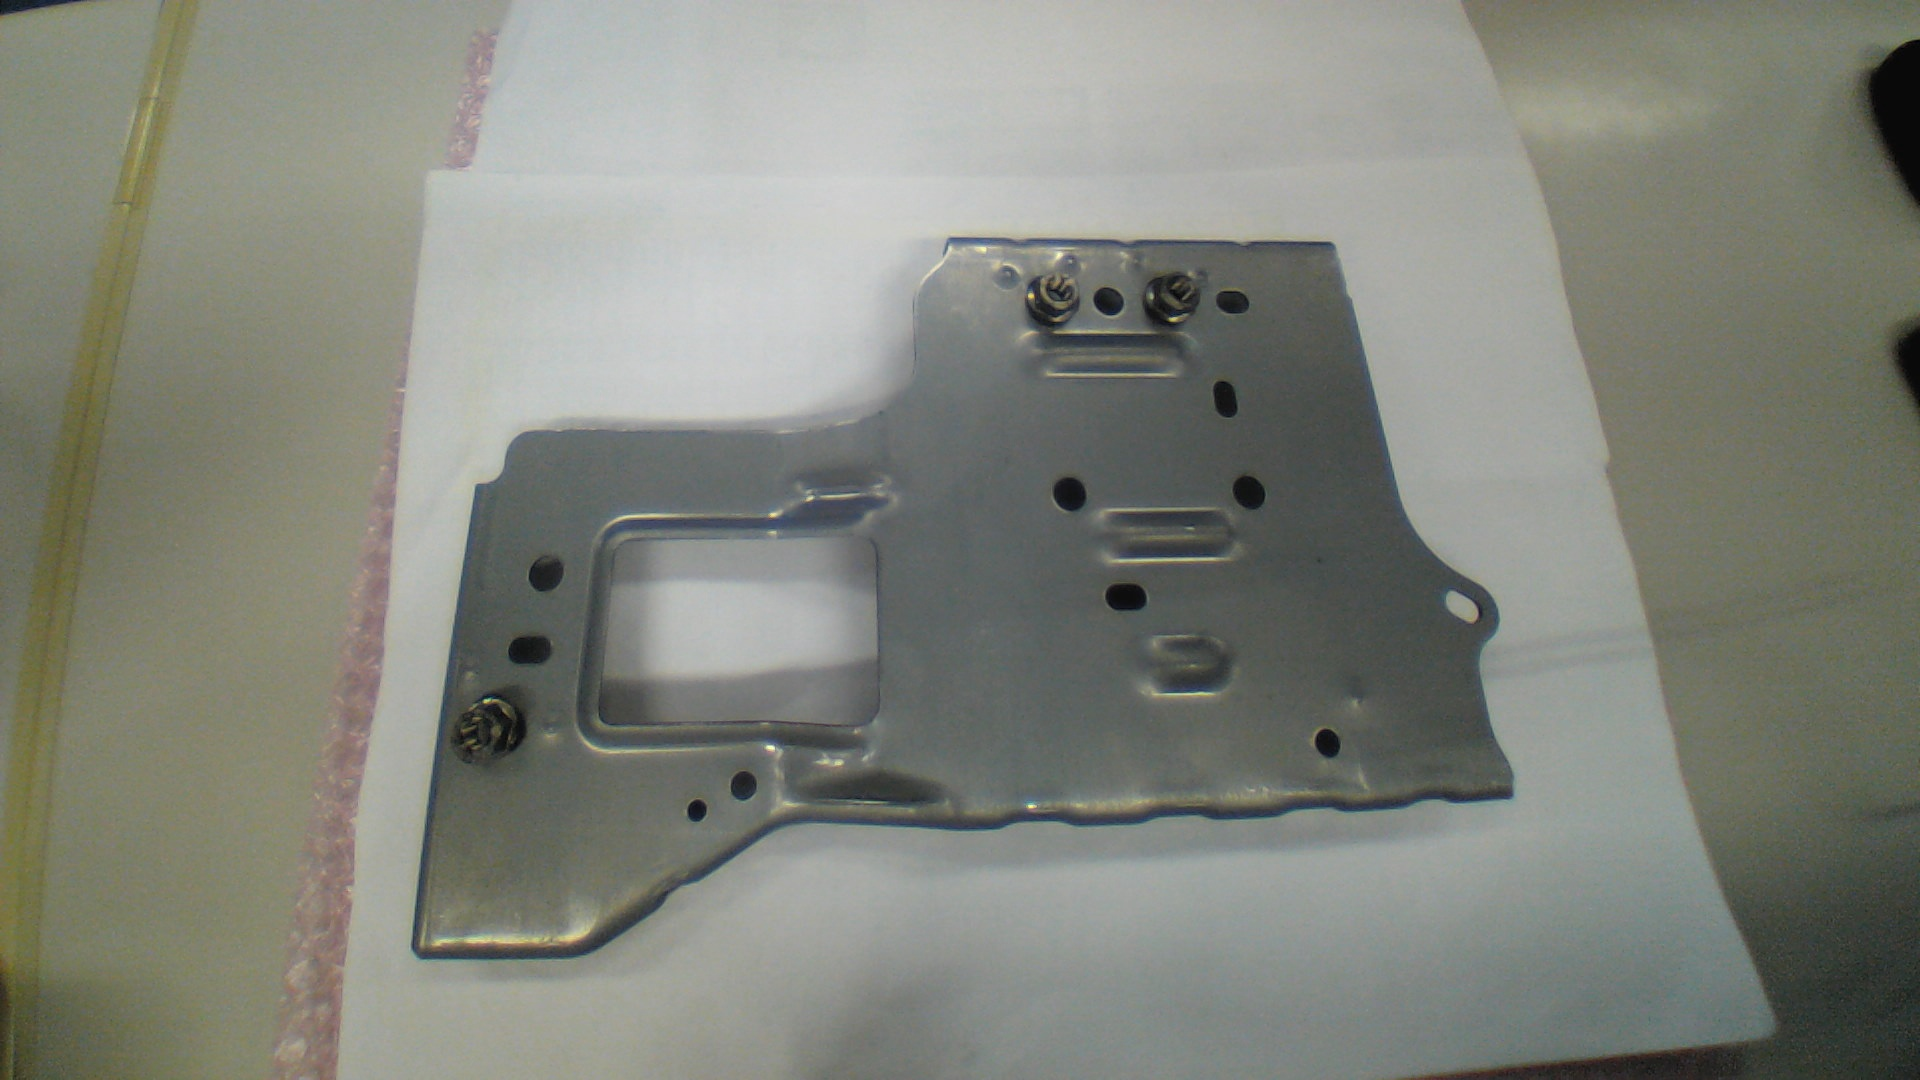dog: (450, 691, 530, 766), (1145, 274, 1207, 324), (1025, 272, 1080, 327)
